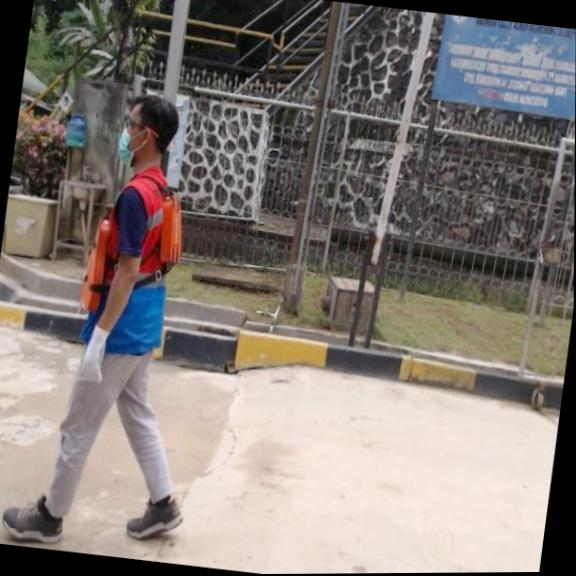safety_vest: (75, 181, 188, 322)
